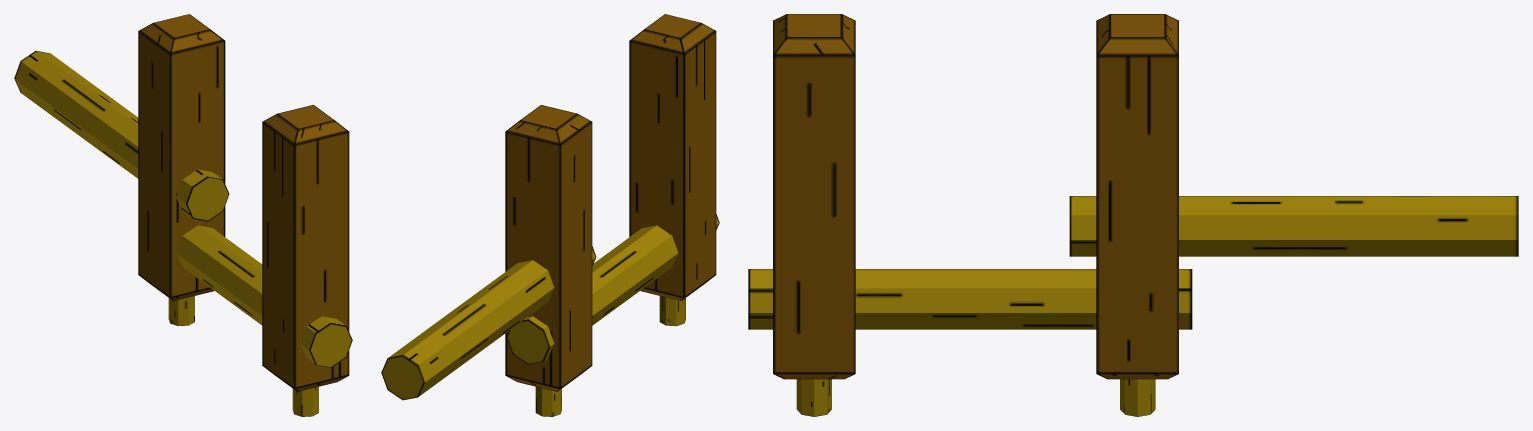
Rendered from Fence1_2_Part.glb.
3 renders of one model, left to right at view 1: azimuth 30°, elevation 25°; view 2: azimuth 150°, elevation 25°; view 3: azimuth 270°, elevation 25°, orthographic. The views are drawn at different scales.
Parts seen in each view (by area): view 1: Fence1_2_Part; view 2: Fence1_2_Part; view 3: Fence1_2_Part.
Part boxes in pixels (x1,y1,x2,y2): Fence1_2_Part: (14, 14, 352, 416); Fence1_2_Part: (381, 14, 719, 416); Fence1_2_Part: (748, 14, 1518, 416).
Bounding box in the file's own units: 0.2561 × 1.31 × 2.38.
1 material, 1 textured.
